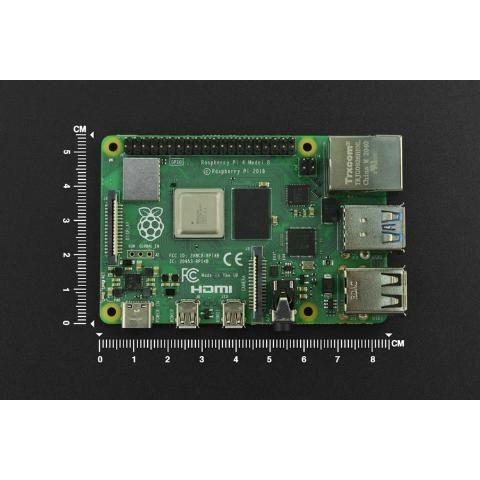Raspberry-Pi-4-Model-B: (96, 128, 412, 336)
